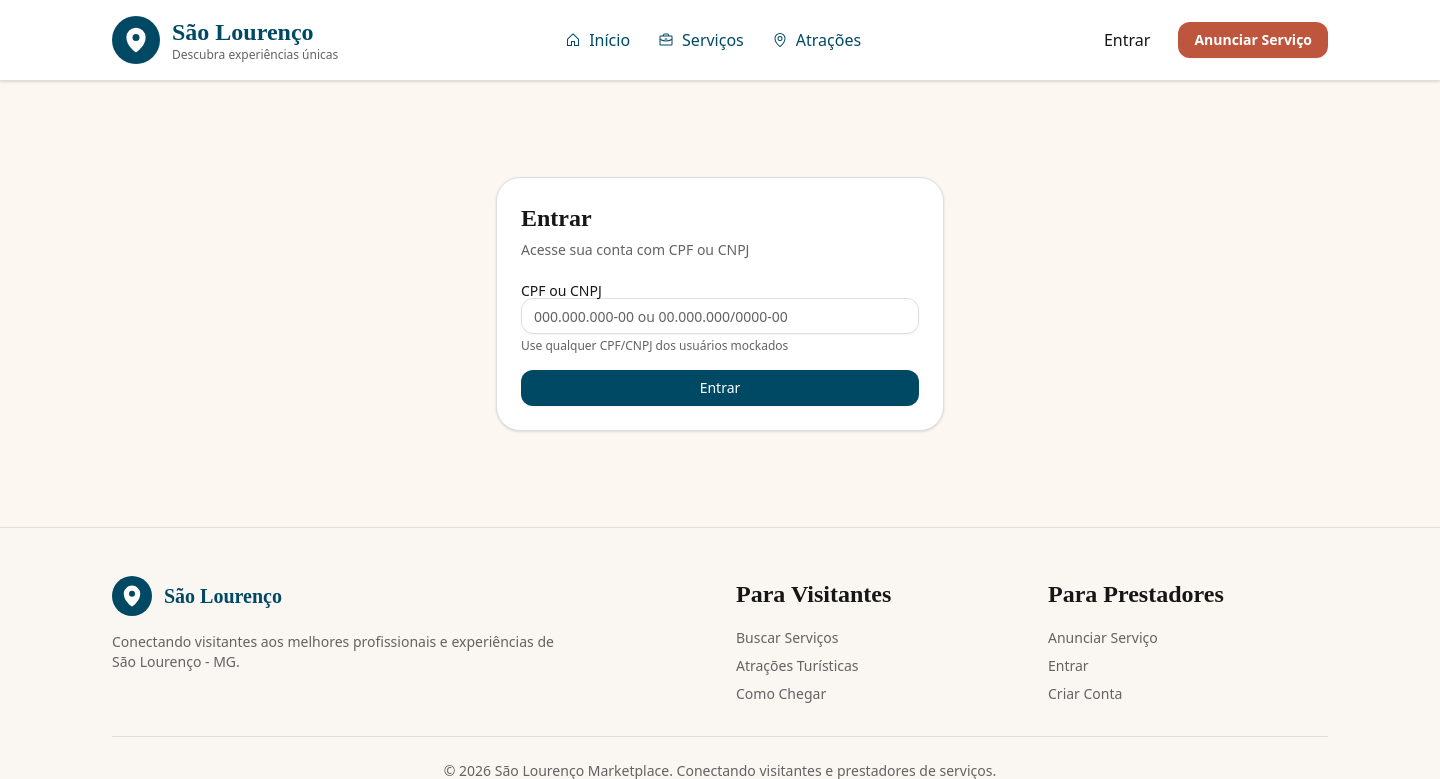
Test case: routing › logs in with a valid document and navigates to the Dashboard with its content
Type "123.456.789-00" into the field labelled "CPF ou CNPJ" at (720, 316), box [521,298,919,334]
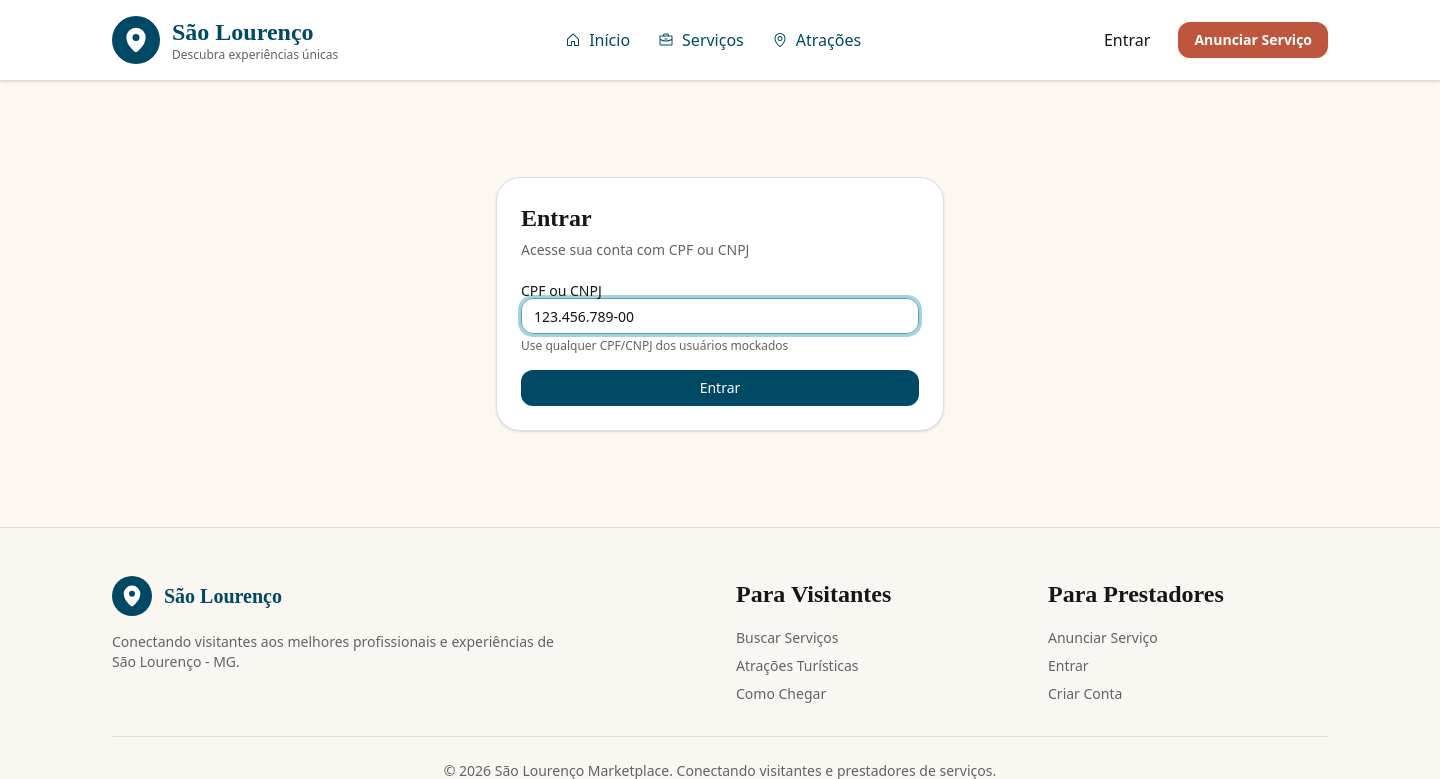
Click the button "Entrar" below "Acesse sua conta com CPF ou CNPJ" at (720, 388), box [521,370,919,406]
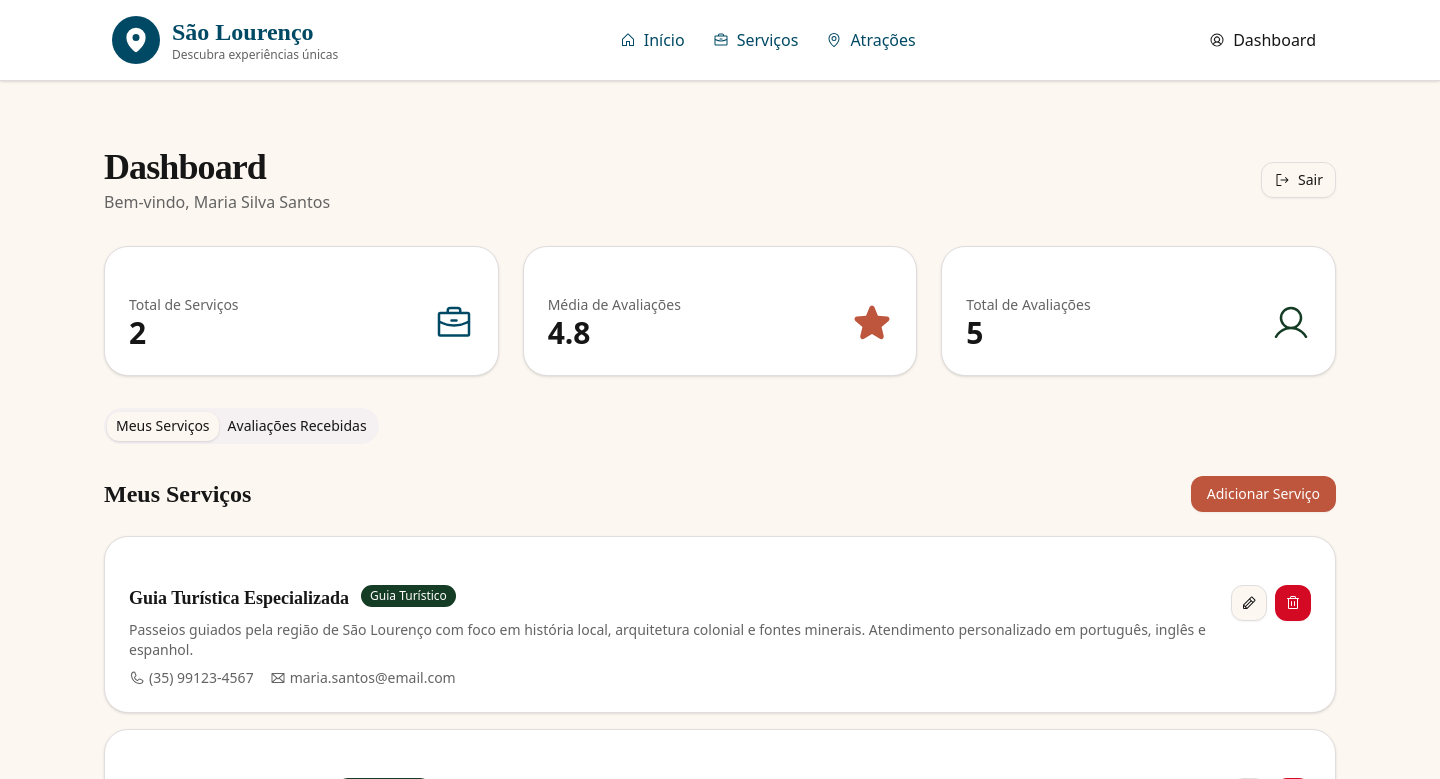
Now the heading "Dashboard" is shown, box [104,147,266,187]
Now the text "Bem-vindo, Maria Silva Santos" is shown, box [104,190,330,214]
